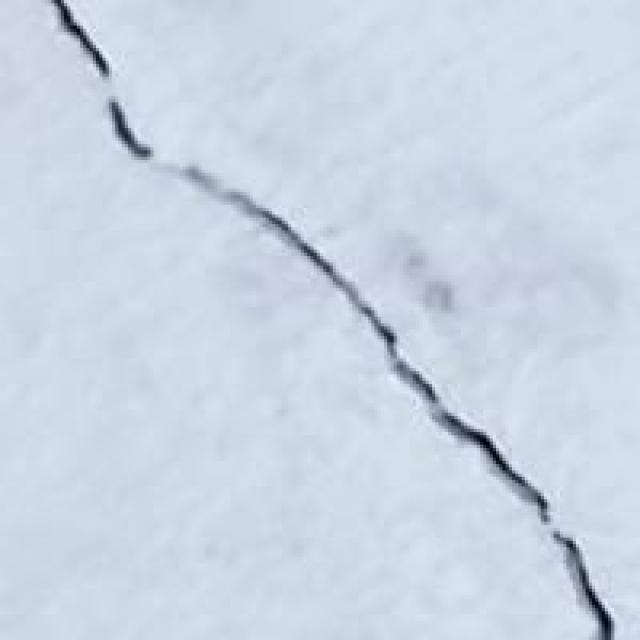crack: (32, 0, 617, 630)
